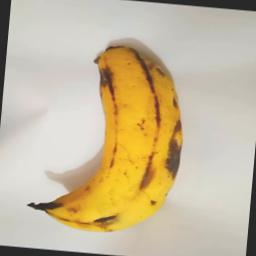Banana Unripe: (22, 38, 192, 238)
